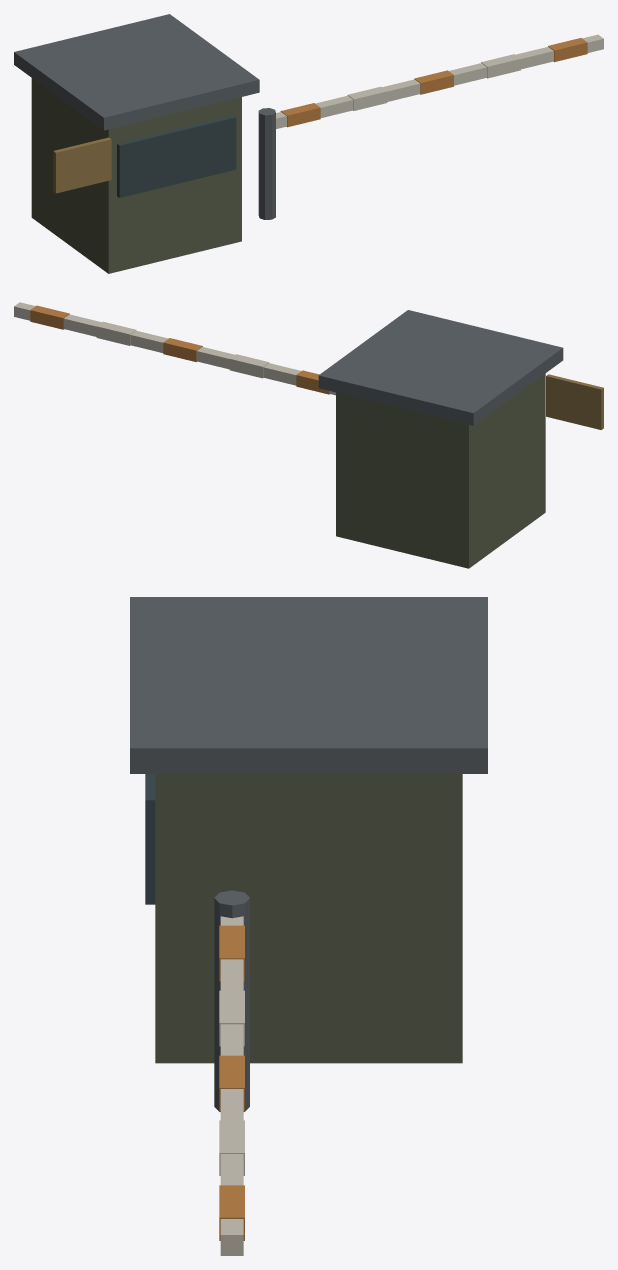
The model's file is checkpoint.glb.
3 renders of one model, top to bottom at view 1: azimuth 30°, elevation 25°; view 2: azimuth 150°, elevation 25°; view 3: azimuth 270°, elevation 25°, orthographic. The views are drawn at different scales.
Parts seen in each view (by area): view 1: hut, hut_roof, window, boom, sign, post, band1, band0, band2, band3, band4; view 2: hut, hut_roof, boom, sign, band1, band3, band2, band4, band0; view 3: hut, hut_roof, boom, post, window, band0, band1, band2, band3, band4.
Part boxes in pixels (x1,y1,x2,y2): hut: (31,78,241,273); hut_roof: (14,14,259,130); window: (117,115,236,197); boom: (276,34,603,128); sign: (53,137,111,193); post: (258,108,275,219); band1: (347,86,387,110); band0: (280,103,320,127); band2: (414,70,453,94); band3: (481,54,520,78); band4: (548,38,587,62); hut: (336,373,545,568); hut_roof: (318,310,563,425); boom: (14,302,335,395); sign: (546,374,603,429); band1: (229,354,269,378); band3: (96,321,136,345); band2: (163,338,202,362); band4: (30,305,69,329); band0: (296,370,329,394); hut: (155,774,462,1063); hut_roof: (130,597,487,773); boom: (220,916,243,1255); post: (214,890,249,1111); window: (145,774,155,904); band0: (219,925,244,981); band1: (219,990,244,1046); band2: (219,1055,244,1110); band3: (219,1120,244,1175); band4: (219,1185,244,1240).
Size of the model in its own units: 10.2 by 2.81 by 2.8.
